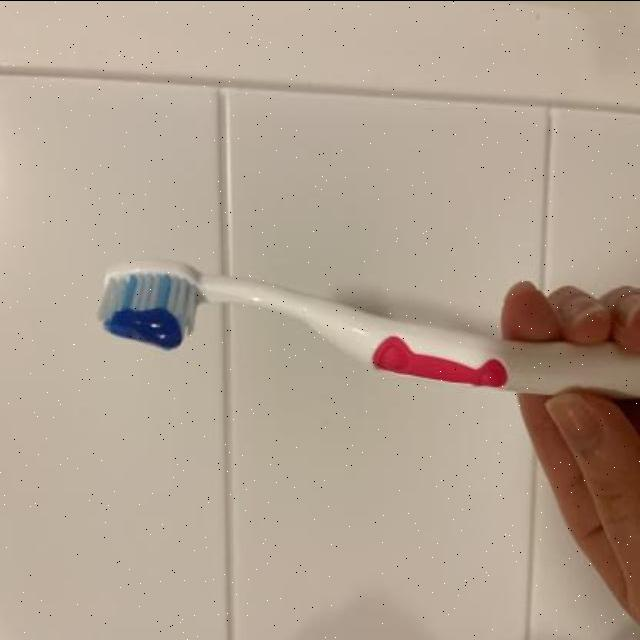toothbrush: (90, 246, 640, 418)
